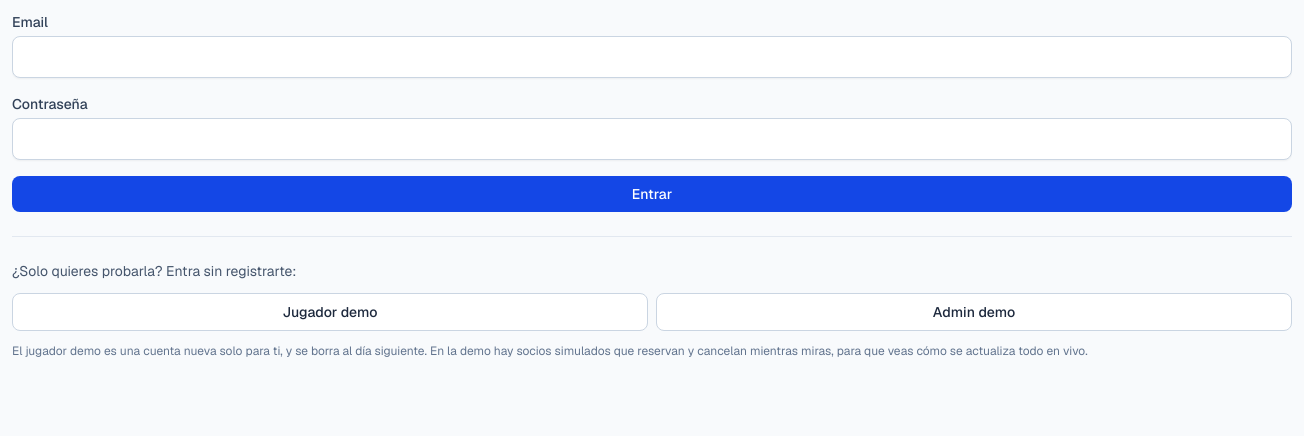
it: FormularioLogin › muestra el error si no se pudo entrar como jugador demo
Click the button "Jugador demo".
click(330, 312)  # box [12, 293, 648, 331]
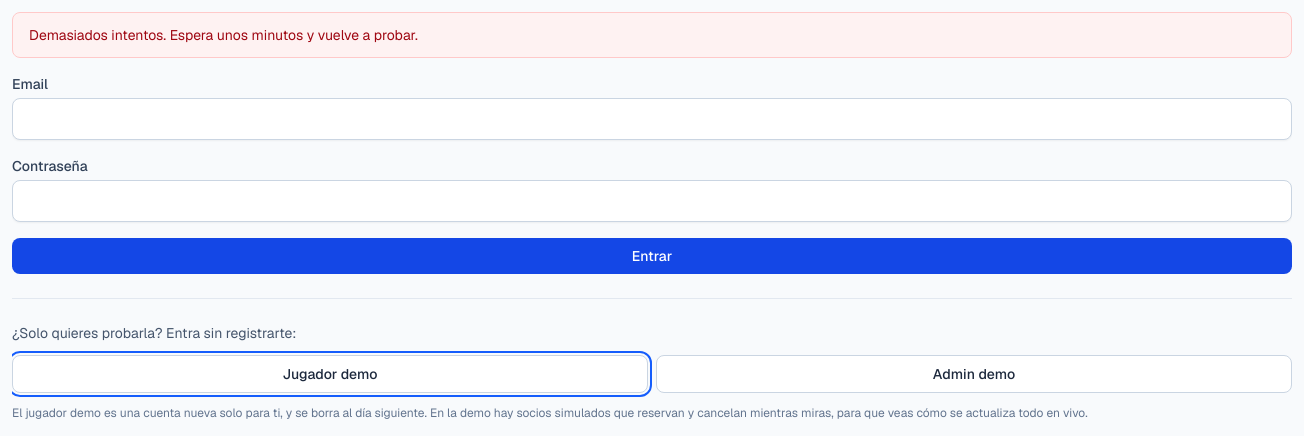
Expected: the message shows "Demasiados intentos", [29, 26, 418, 44]
